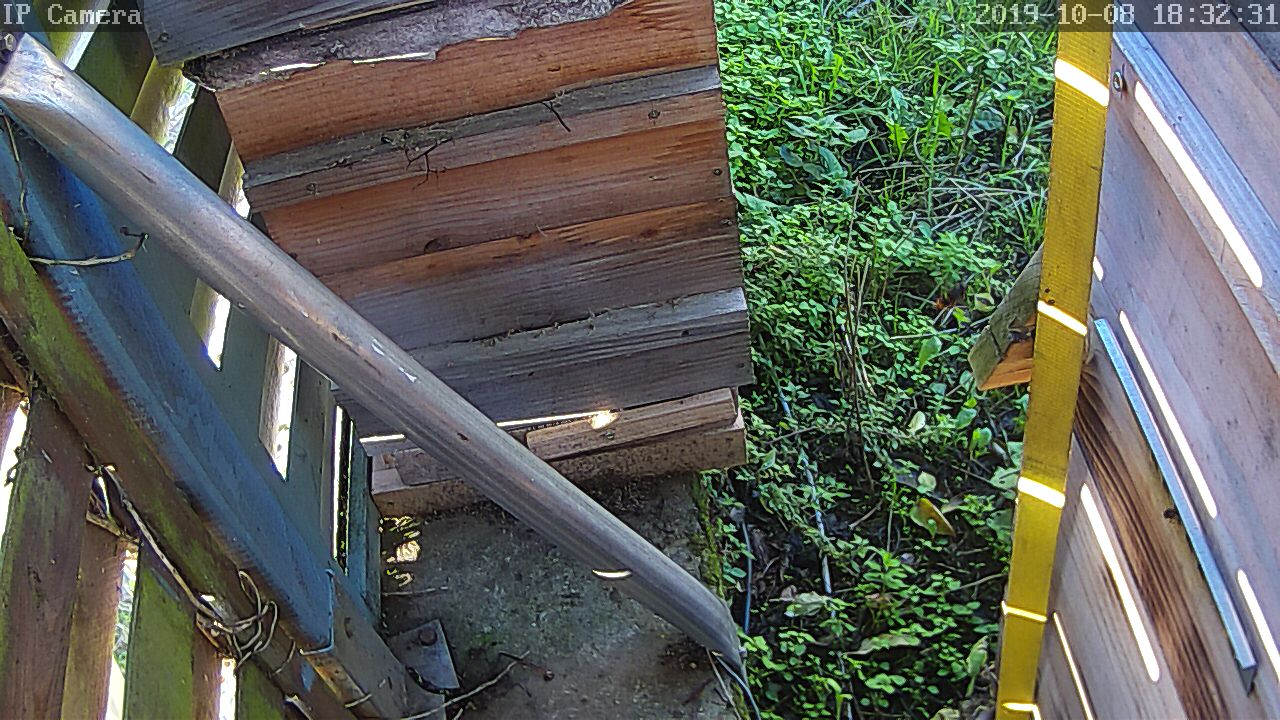bee: (1152, 500, 1186, 533)
hornet: (921, 274, 970, 327)
